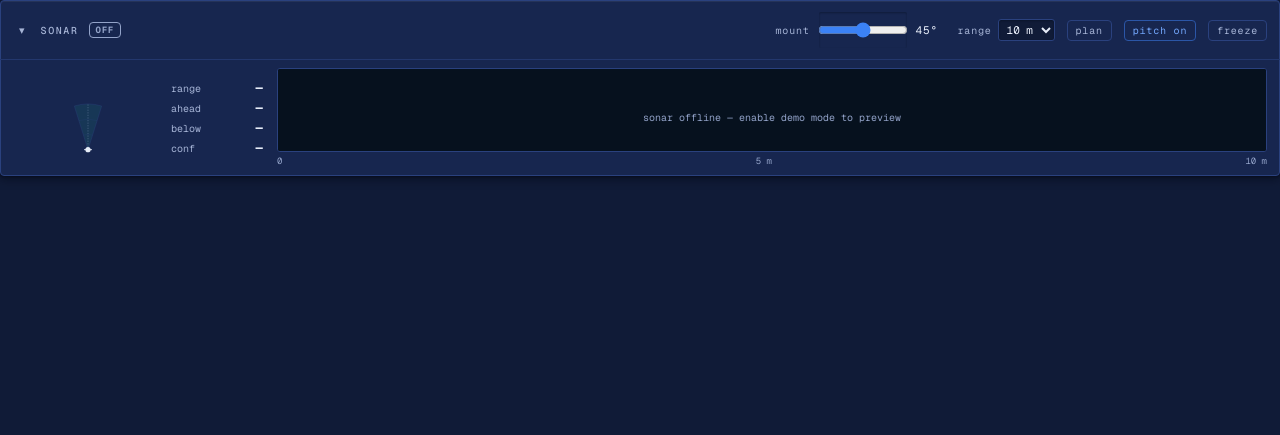
Test: SonarView › cycles plan -> pov -> map -> plan and persists the choice
This screenshot has width=1280, height=435.
Expected: the picture named "Sonar beam cone" is shown, [13,76,163,160]
What coordinates should you click on to do the following:
click the button "plan"
I would click on:
 (1089, 30)
Its box is [1067,20,1112,40].
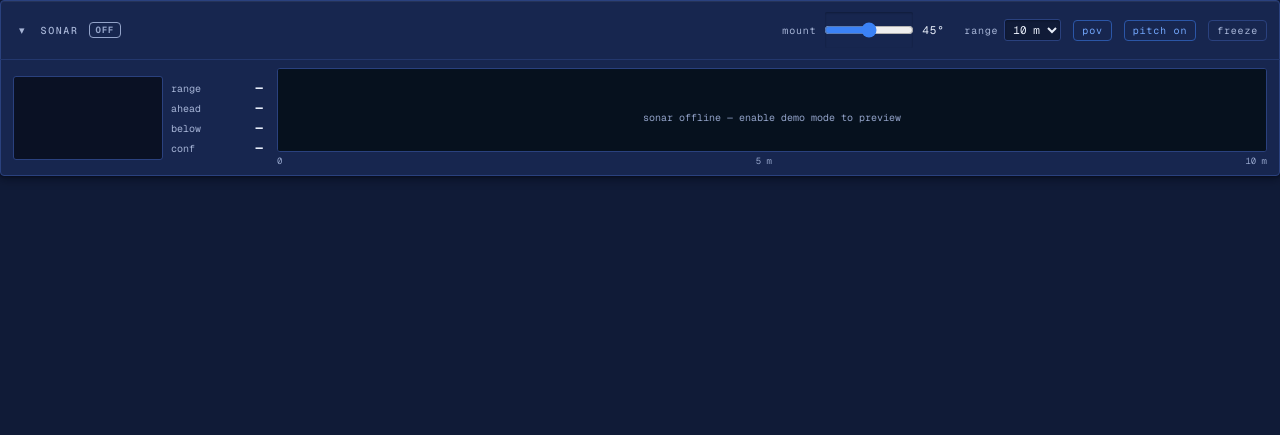
Result: the picture named "Sonar POV view" is shown at [13,76,163,160]
Result: the button "plan" reads "pov"
What coordinates should you click on to do the following:
click the button "pov"
I would click on:
 (1093, 30)
Its box is [1073,20,1112,40].
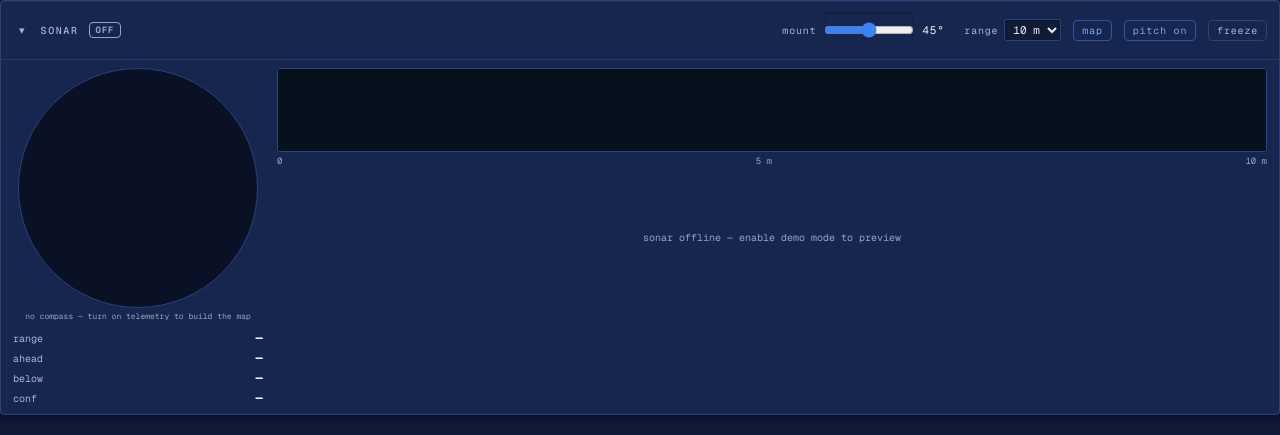
Result: the picture named "Sonar accumulation map" is shown at [18,68,258,308]
Result: the button "pov" reads "map"
What coordinates should you click on to do the following:
click the button "map"
I would click on:
 (1093, 30)
Its box is [1073,20,1112,40].
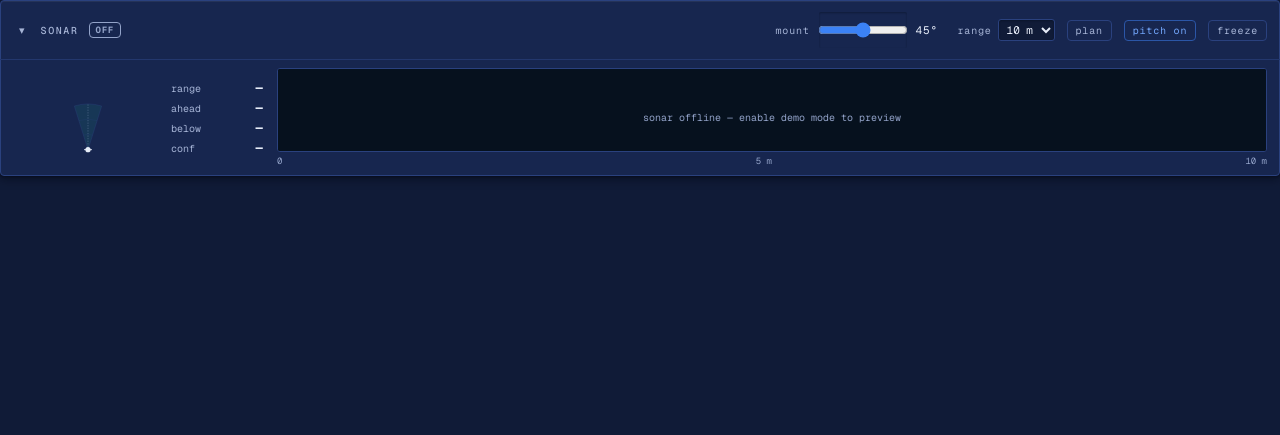
Result: the picture named "Sonar beam cone" is shown at [13,76,163,160]
Result: the button "map" reads "plan" at [1067,20,1112,40]
